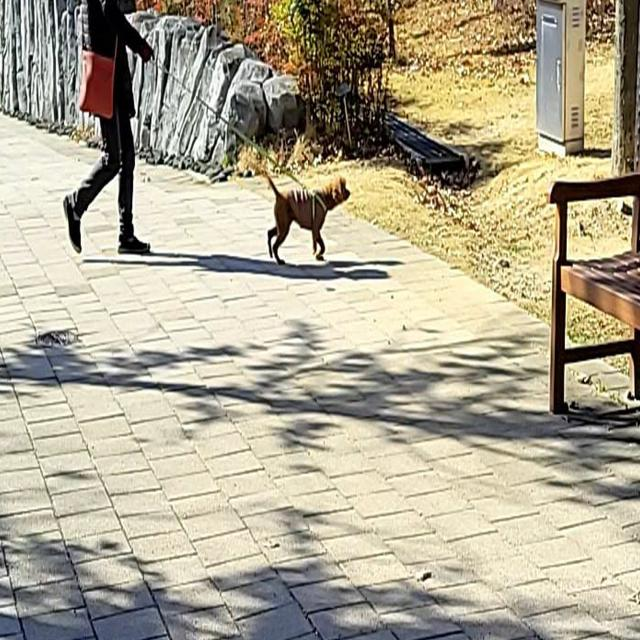Leashed_Dog: (113, 22, 350, 265)
